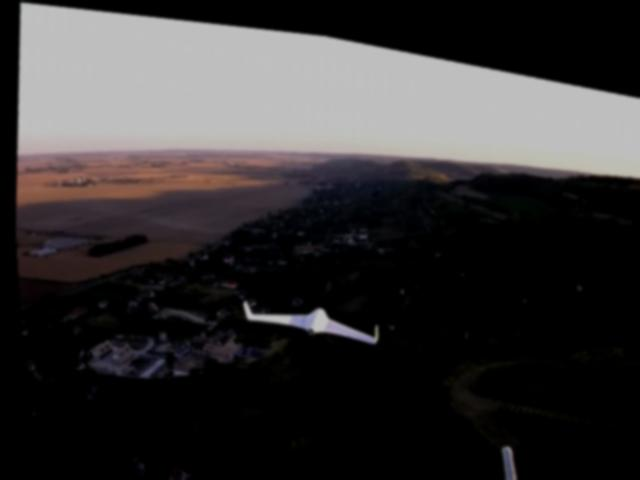plane: (236, 287, 377, 342)
